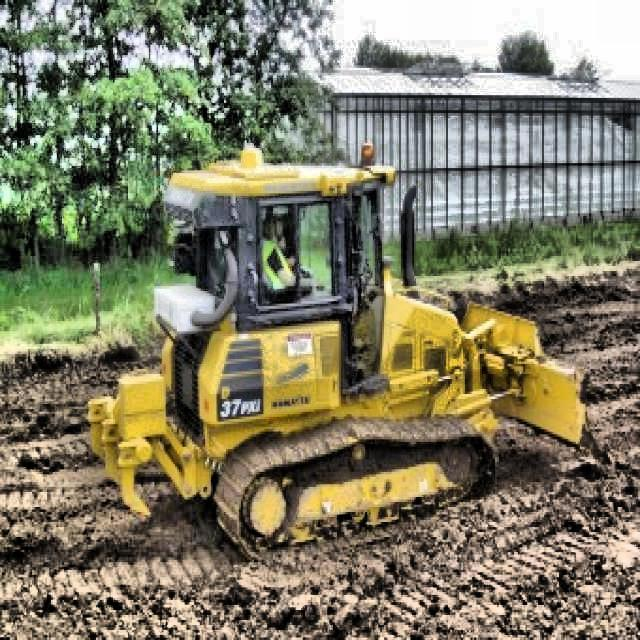bull_dozer/loader/grader: (83, 137, 592, 563)
person: (261, 209, 301, 288)
